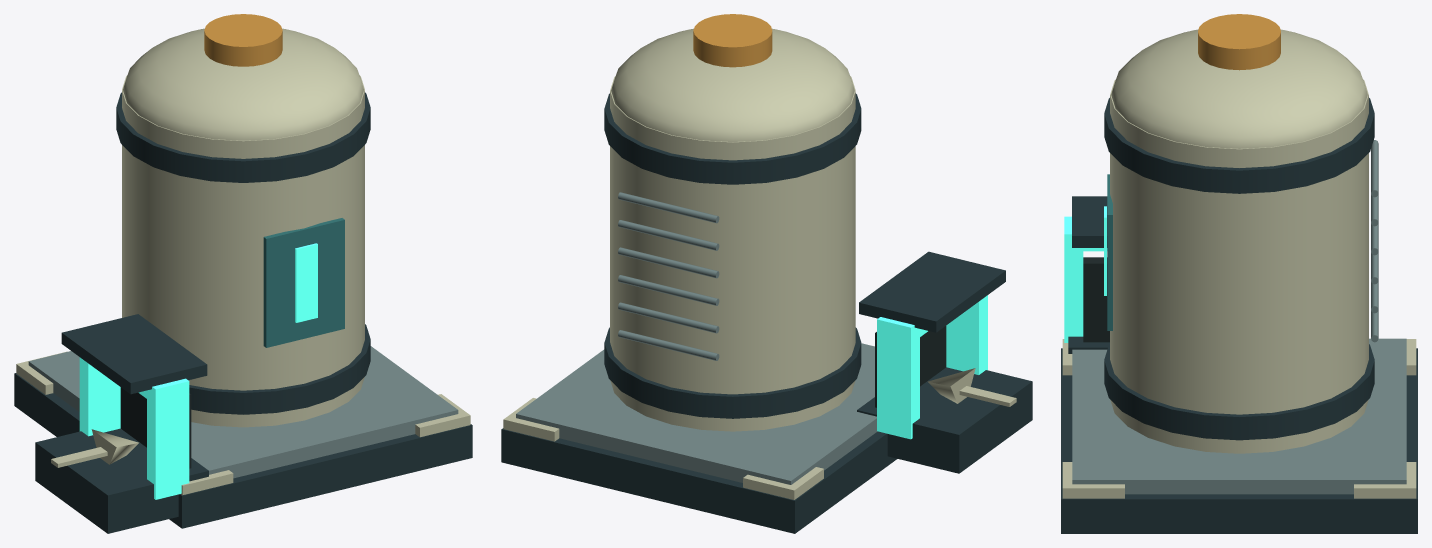
File: storage.glb
3 views of the same model, side by side, from view 1: azimuth 30°, elevation 25°; view 2: azimuth 150°, elevation 25°; view 3: azimuth 270°, elevation 25° (orthographic). The views are drawn at different scales.
Parts seen in each view (by area): view 1: Batched static factory; view 2: Batched static factory; view 3: Batched static factory.
Part boxes in pixels (left/top/right/bottom): Batched static factory: left=14, top=14, right=472, bottom=533; Batched static factory: left=501, top=14, right=1032, bottom=533; Batched static factory: left=1061, top=14, right=1417, bottom=533.
Size of the model in its own units: 2.47 by 2.5 by 1.9.
